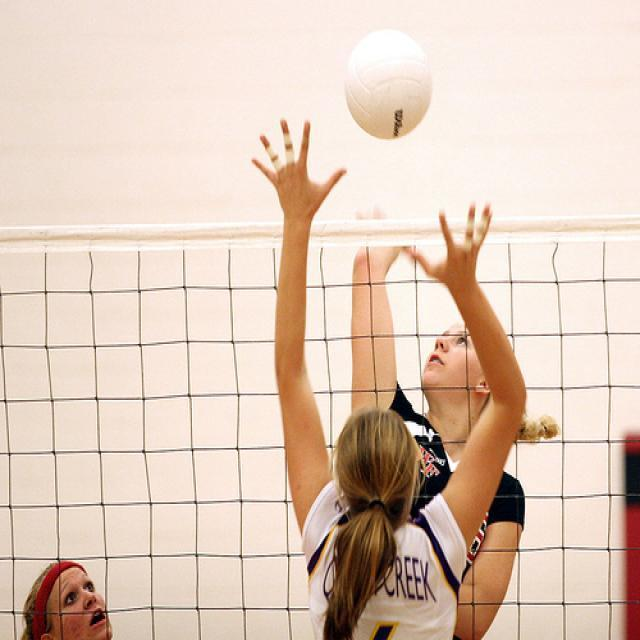volleyball: (342, 28, 432, 140)
